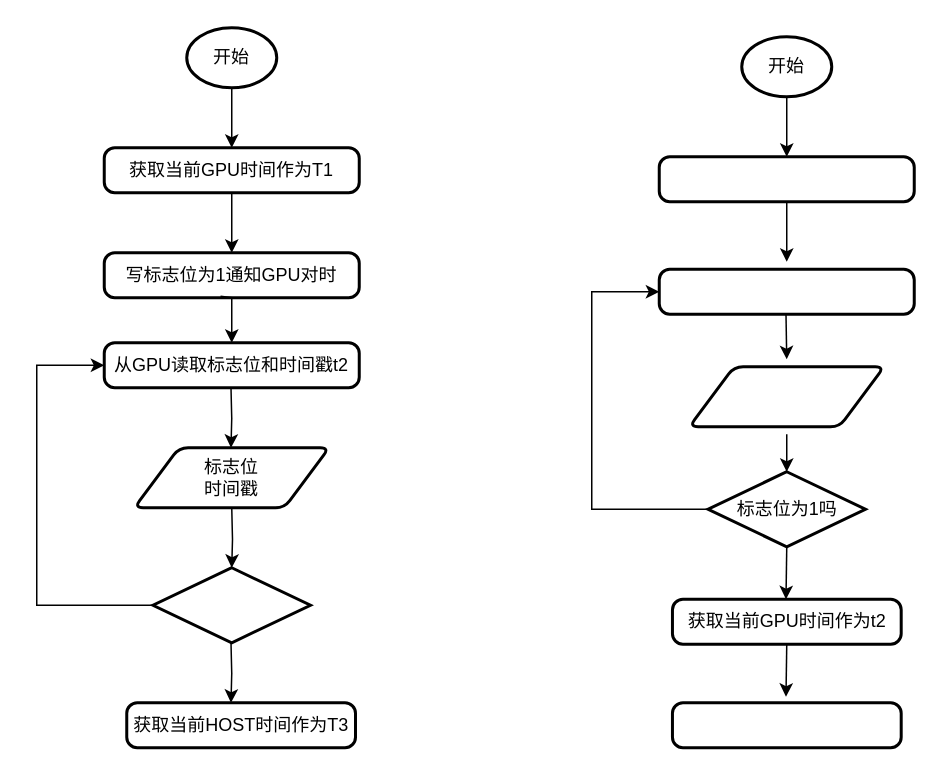
Some shapes in this 942 by 774 pixel diagram are drawn without their labels. Each missing label, with the centre of its shape:
"写入t2到时间戳" belongs at pixel 786 724.
"初始化标志位为0" belongs at pixel 786 178.
"标志位" belongs at pixel 786 396.
"标志位为0吗" belongs at pixel 231 605.
"读取标志位" belongs at pixel 786 291.
